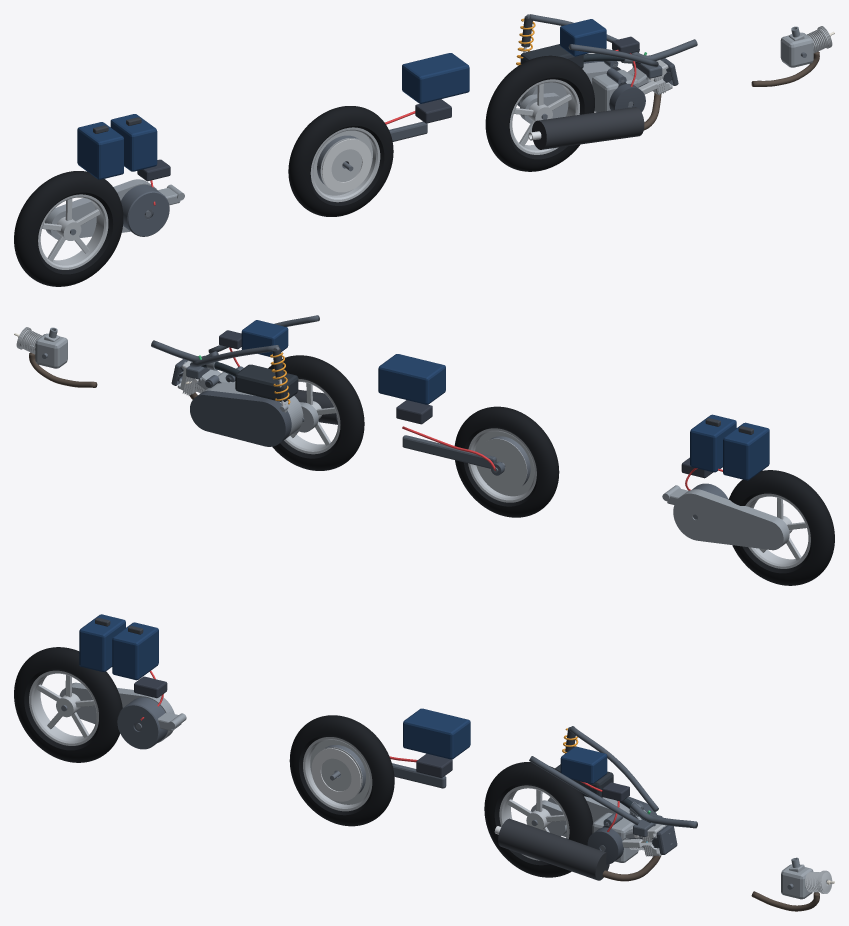
Rendered from scooter.glb.
3 renders of one model, top to bottom at view 1: azimuth 30°, elevation 25°; view 2: azimuth 150°, elevation 25°; view 3: azimuth 330°, elevation 25°, orthographic.
Parts seen in each view (by area): view 1: EM_WheelTire, U4_WheelTire, EH_WheelTire, U4_Muffler, EH_Battery, EM_WheelRim, EM_Battery0, EM_MotorHousing, EM_Battery1, U4_WheelRim, EH_WheelRim, U4_Frame (+12 smaller); view 2: EM_WheelTire, EH_WheelTire, EM_GearCase, U4_WheelTire, U4_CVTCover, EH_Battery, EM_Battery0, EM_Battery1, EH_CapL, U4_Frame, EH_WheelRim, U4_AirBox (+9 smaller); view 3: EM_WheelTire, EH_WheelTire, U4_WheelTire, U4_Muffler, EH_Battery, EM_WheelRim, U4_Frame, EM_Battery1, EM_Battery0, EM_MotorHousing, EH_WheelRim, U4_WheelRim (+10 smaller).
Boxes of the visible parts, bbox=[...] form: EM_WheelTire: bbox=[14, 171, 123, 286]; U4_WheelTire: bbox=[485, 55, 594, 171]; EH_WheelTire: bbox=[288, 106, 393, 216]; U4_Muffler: bbox=[528, 107, 644, 149]; EH_Battery: bbox=[402, 53, 469, 103]; EM_WheelRim: bbox=[38, 194, 108, 269]; EM_Battery0: bbox=[77, 122, 123, 179]; EM_MotorHousing: bbox=[121, 184, 169, 236]; EM_Battery1: bbox=[110, 114, 157, 171]; U4_WheelRim: bbox=[509, 79, 579, 154]; EH_WheelRim: bbox=[310, 127, 380, 202]; U4_Frame: bbox=[529, 14, 697, 81]; EM_WheelTire: bbox=[728, 470, 834, 585]; EH_WheelTire: bbox=[454, 406, 559, 517]; EM_GearCase: bbox=[673, 489, 789, 550]; U4_WheelTire: bbox=[268, 355, 364, 470]; U4_CVTCover: bbox=[190, 390, 291, 446]; EH_Battery: bbox=[378, 354, 445, 404]; EM_Battery0: bbox=[723, 422, 769, 480]; EM_Battery1: bbox=[690, 414, 736, 472]; EH_CapL: bbox=[477, 438, 527, 492]; U4_Frame: bbox=[151, 315, 319, 382]; EH_WheelRim: bbox=[468, 428, 536, 502]; U4_AirBox: bbox=[235, 364, 298, 401]; EM_WheelTire: bbox=[14, 647, 122, 762]; EH_WheelTire: bbox=[289, 715, 394, 826]; U4_WheelTire: bbox=[484, 762, 593, 877]; U4_Muffler: bbox=[494, 818, 609, 880]; EH_Battery: bbox=[403, 708, 470, 759]; EM_WheelRim: bbox=[29, 670, 98, 745]; U4_Frame: bbox=[529, 726, 697, 838]; EM_Battery1: bbox=[112, 622, 158, 680]; EM_Battery0: bbox=[79, 614, 125, 671]; EM_MotorHousing: bbox=[117, 697, 167, 749]; EH_WheelRim: bbox=[303, 737, 372, 811]; U4_WheelRim: bbox=[499, 785, 569, 860].
Bounding box in the file's own units: 3.72 × 0.644 × 0.3916.
